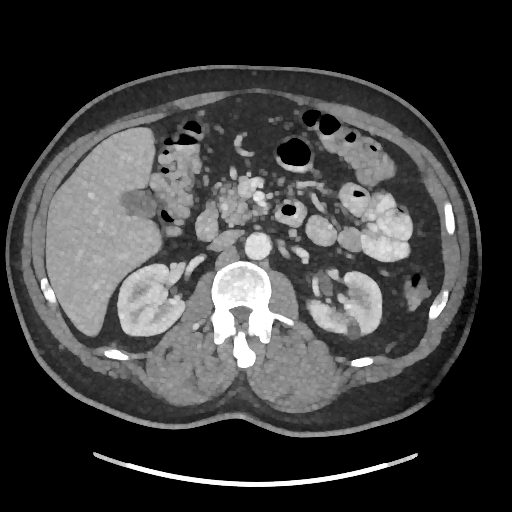Lesion: (345, 321, 362, 341)
